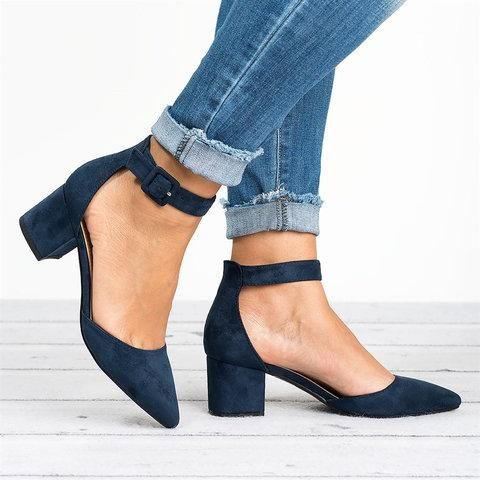gamuza: (23, 135, 461, 428)
